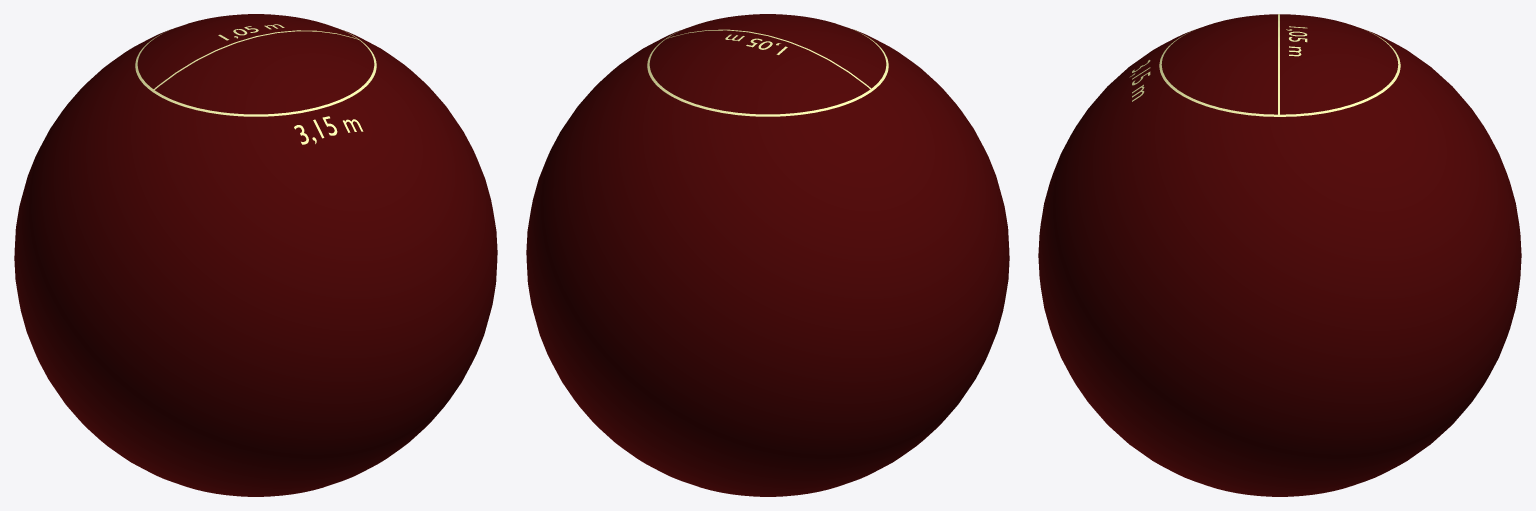
File: esfera.glb
The picture shows the model from 3 angles, left to right: view 1: azimuth 30°, elevation 25°; view 2: azimuth 150°, elevation 25°; view 3: azimuth 270°, elevation 25°; orthographic projection.
Visible parts, largest first — view 1: Sphere, circunferência; view 2: Sphere, circunferência; view 3: Sphere, circunferência.
Boxes of the visible parts, bbox=[...] form: Sphere: bbox=[14, 14, 497, 496]; circunferência: bbox=[135, 30, 376, 116]; Sphere: bbox=[526, 14, 1009, 496]; circunferência: bbox=[647, 30, 888, 116]; Sphere: bbox=[1038, 14, 1521, 496]; circunferência: bbox=[1159, 29, 1400, 116].
Bounding box in the file's own units: 2 × 2 × 2.
